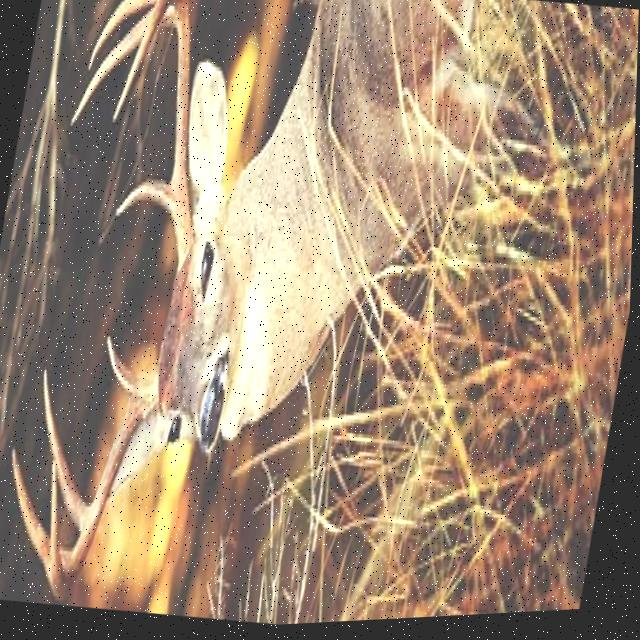L-F: (114, 0, 197, 273)
L-G1: (117, 180, 175, 218)
R-F: (54, 364, 162, 601)
R-G1: (109, 335, 143, 396)
R-G2: (46, 366, 95, 534)
